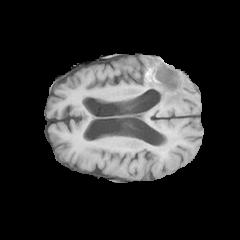glioma: (140, 57, 190, 143)
